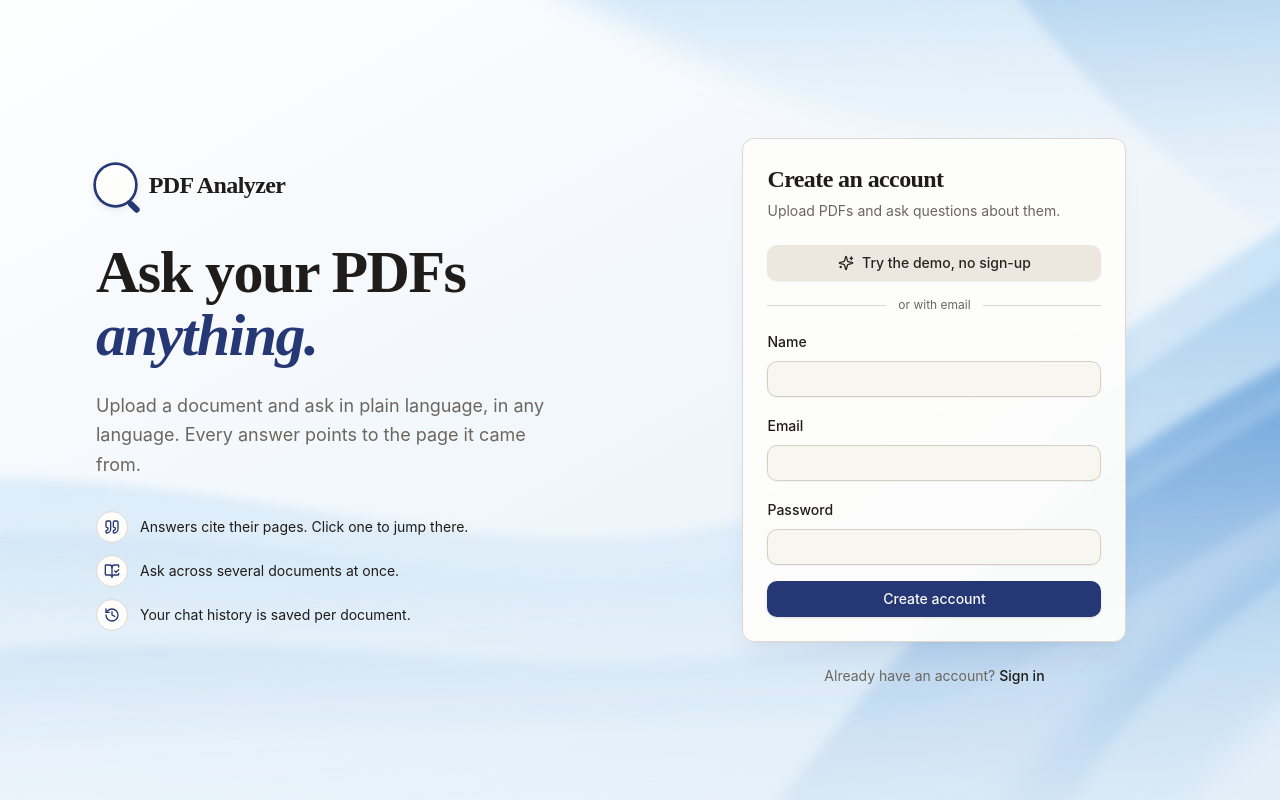
it: RegisterPage (form validation) › sends valid input and shows the server error if it is refused
Type "Ada" into the field labelled "Name". click: point(934, 379)
box: [768,361,1102,397]
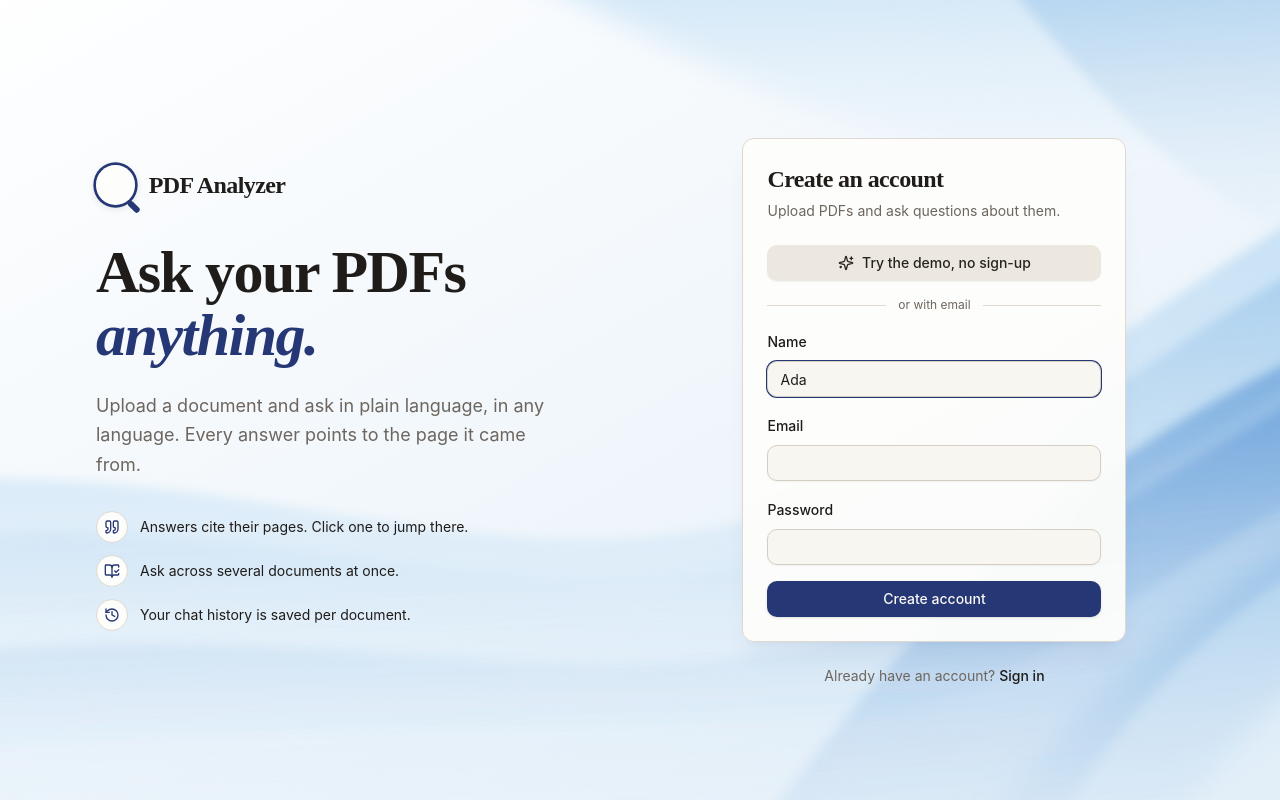
Type "ADA@example.com " into the field labelled "Email". click: point(934, 463)
box: [768,445,1102,481]
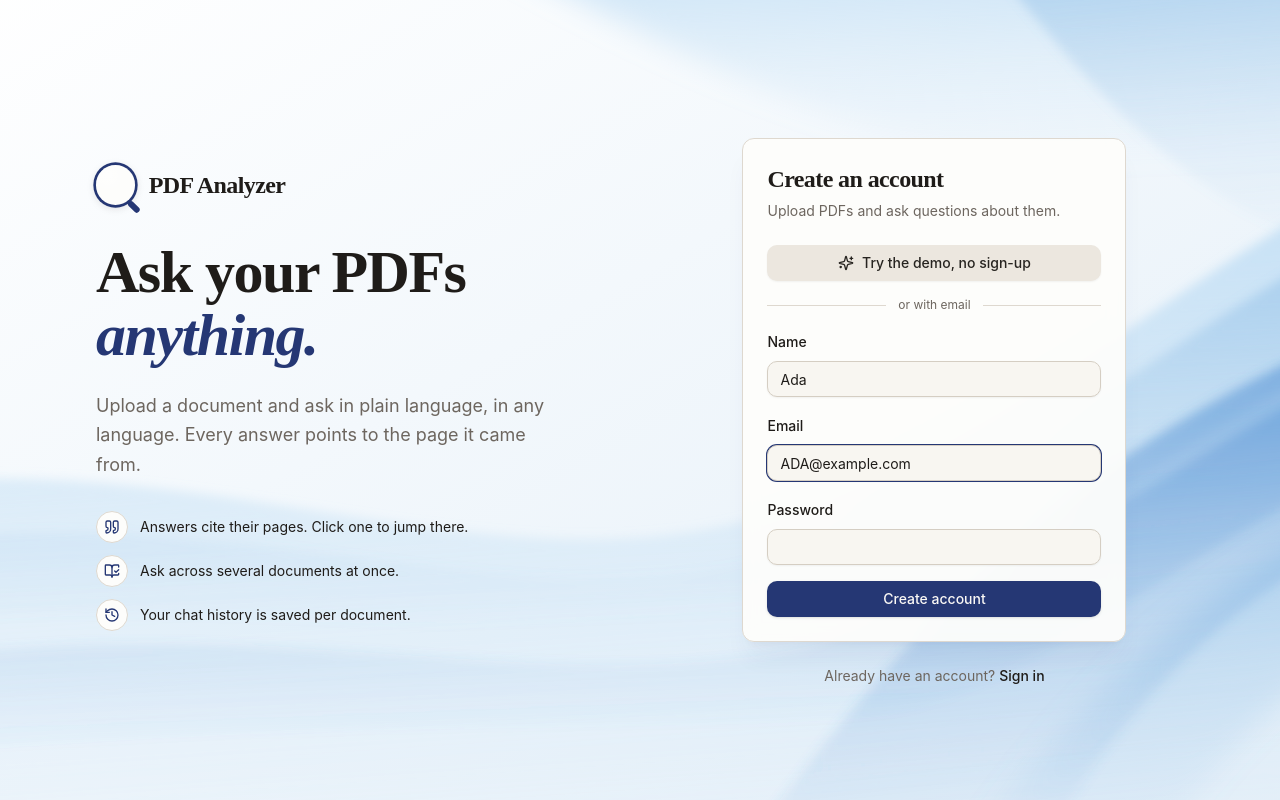
Type "correct horse" into the password field labelled "Password". click: point(934, 547)
box: [768,529,1102,565]
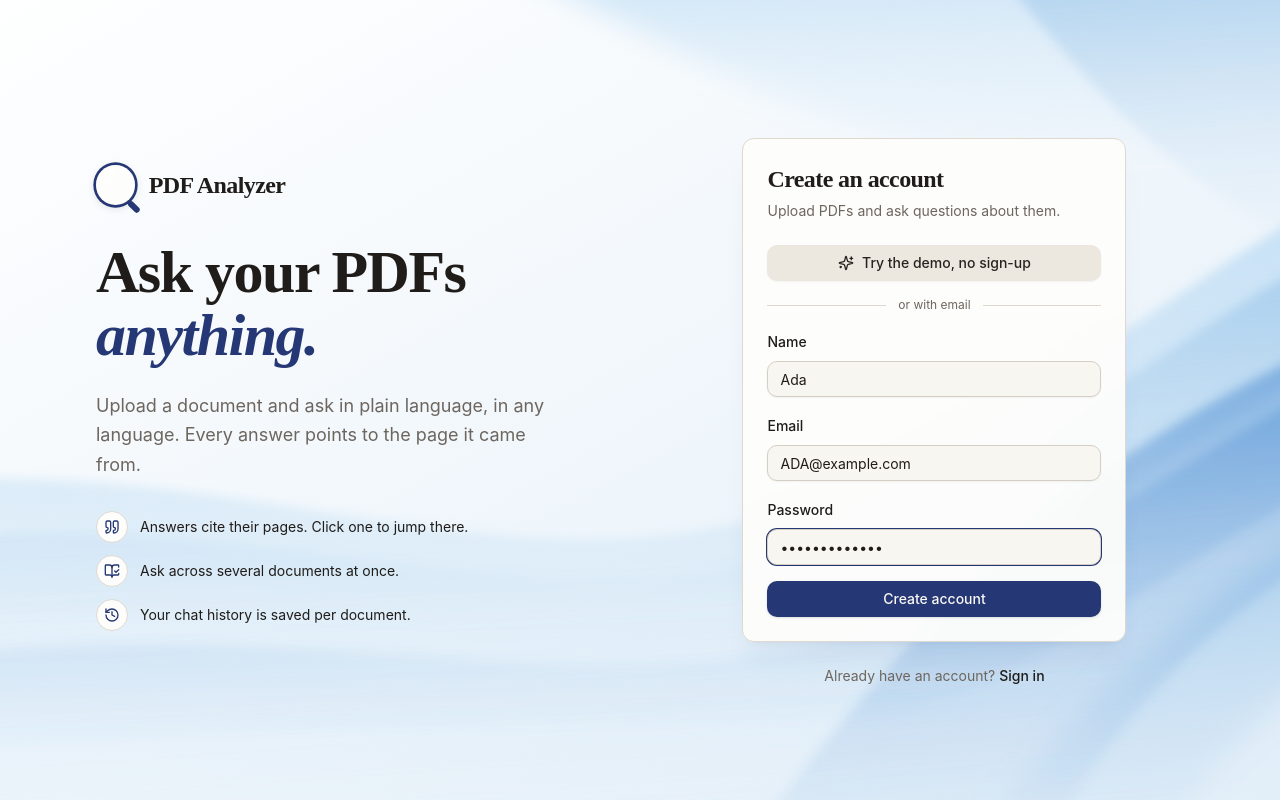
Click the button "Create account". click: point(934, 599)
box: [768,581,1102,617]
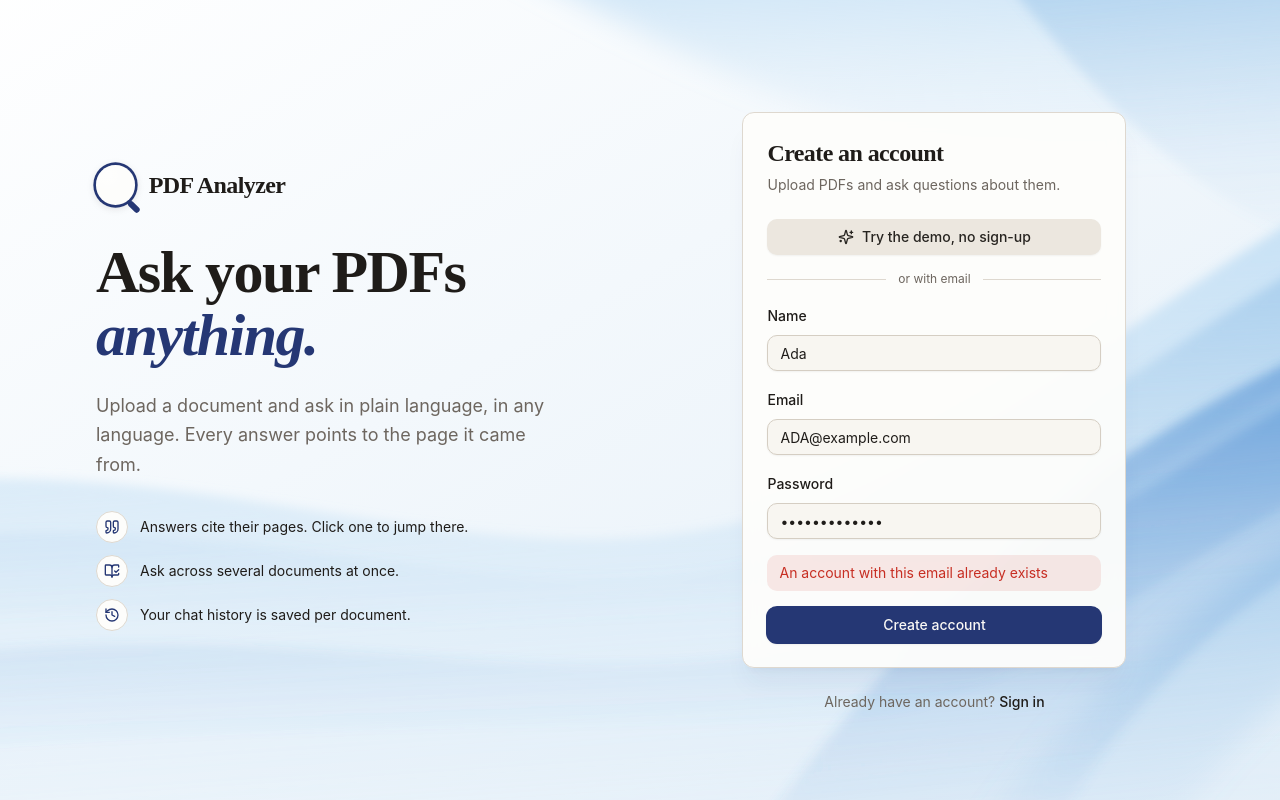
Result: the message reads "An account with this email already exists" at [780,564,1048,581]
